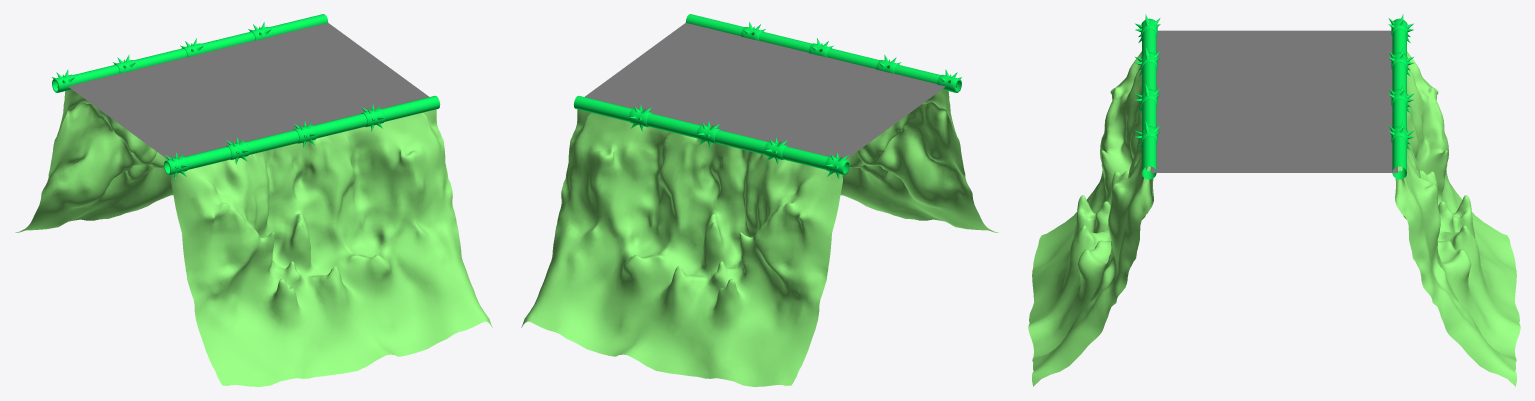
The model's file is Track_Ice_01.fbx.
The picture shows the model from 3 angles, left to right: view 1: azimuth 30°, elevation 25°; view 2: azimuth 150°, elevation 25°; view 3: azimuth 270°, elevation 25°; orthographic projection. The views are drawn at different scales.
Parts seen in each view (by area): view 1: Track_Ice_01_walls, Track_Ice_01; view 2: Track_Ice_01_walls, Track_Ice_01; view 3: Track_Ice_01_walls, Track_Ice_01.
Boxes of the visible parts, x1,y1,x2,y2 form: Track_Ice_01_walls: (15, 14, 492, 386); Track_Ice_01: (68, 23, 428, 159); Track_Ice_01_walls: (521, 14, 998, 386); Track_Ice_01: (585, 23, 945, 159); Track_Ice_01_walls: (1028, 14, 1520, 386); Track_Ice_01: (1151, 30, 1397, 172).
Size of what is drawn, in the model's own units: 3178 by 4392 by 2297.
